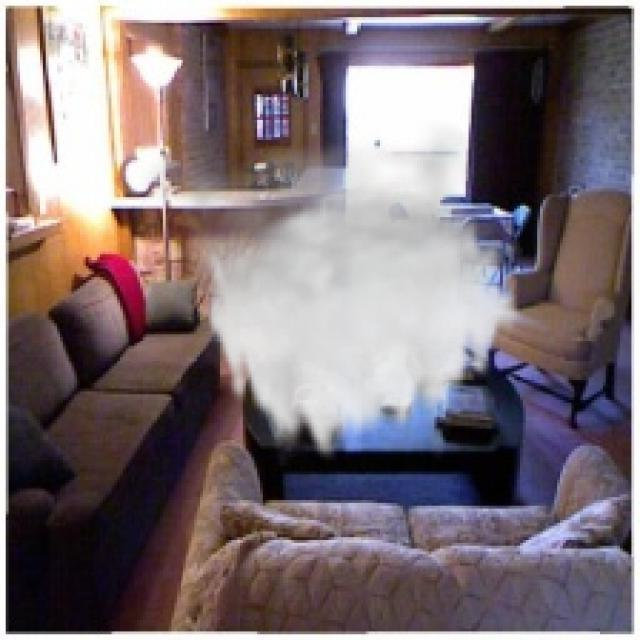Smoke: (137, 117, 523, 466)
